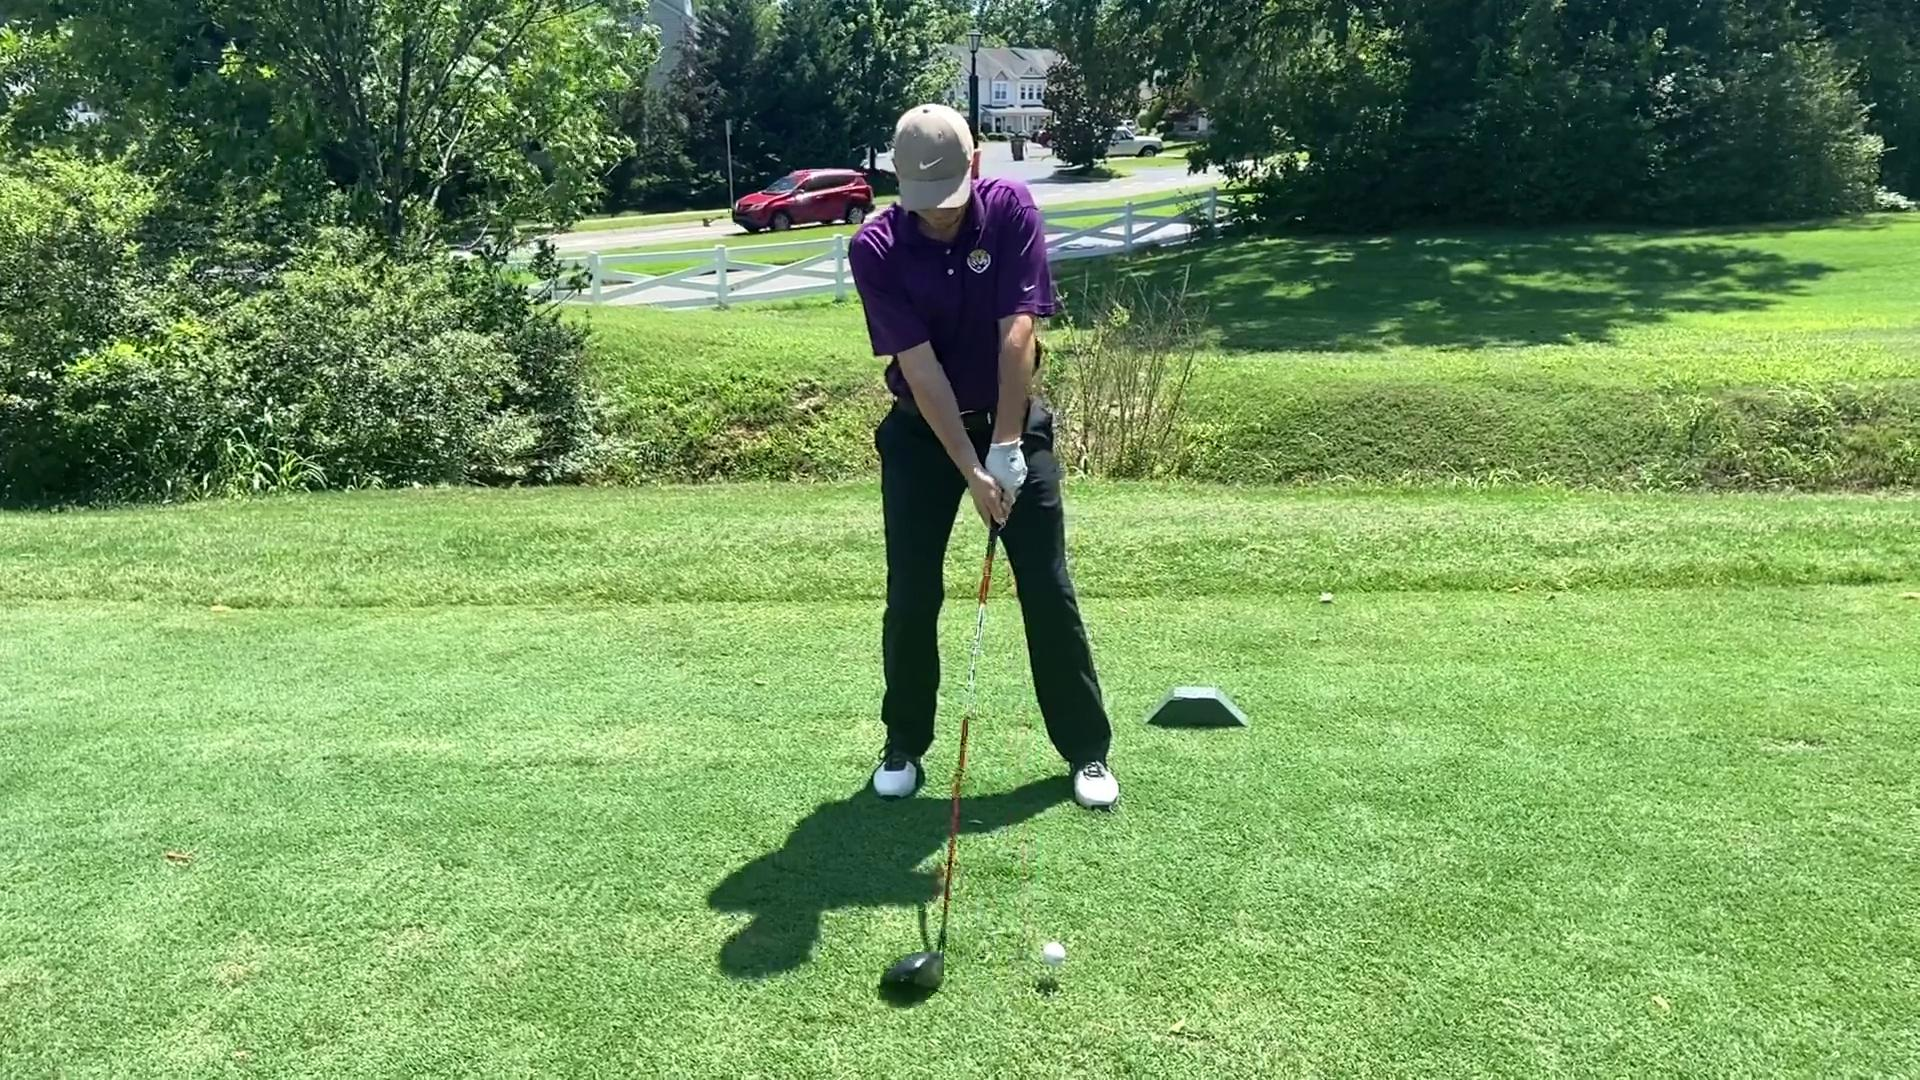ClubHead: (878, 931, 947, 1007)
GolfBall: (1039, 940, 1067, 973)
